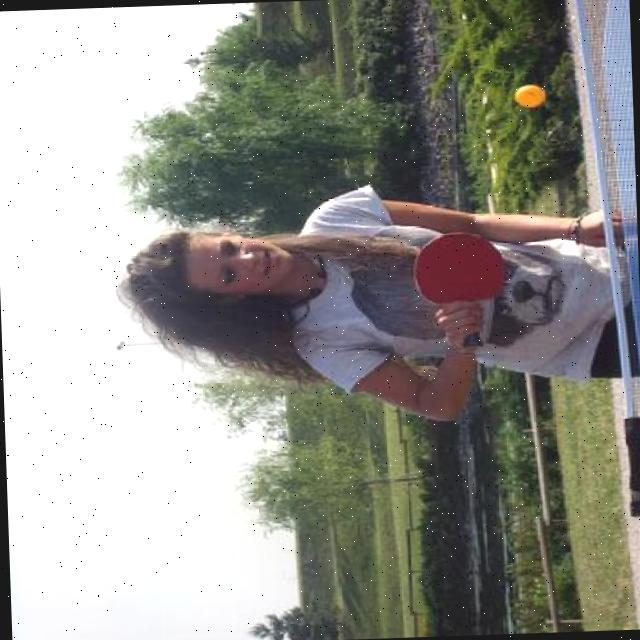ping-pong-ball: (510, 81, 545, 108)
